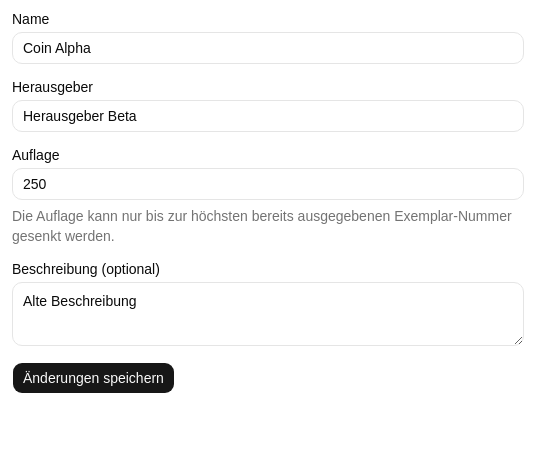
Scenario: Fehler vom Server › zeigt 401 den Hinweis auf die abgelaufene Anmeldung
The image size is (541, 471).
Click the button "Änderungen speichern".
click(93, 378)  # box [12, 362, 175, 394]
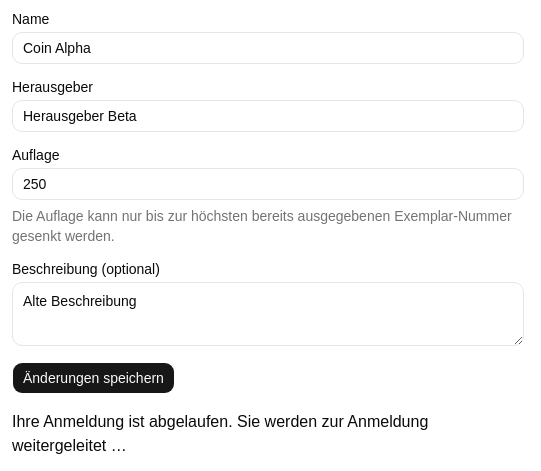
Expected: the message "Ihre Anmeldung ist abgelaufen. Sie werden zur Anmeldung weitergeleitet …" is shown, [12, 413, 428, 454]
